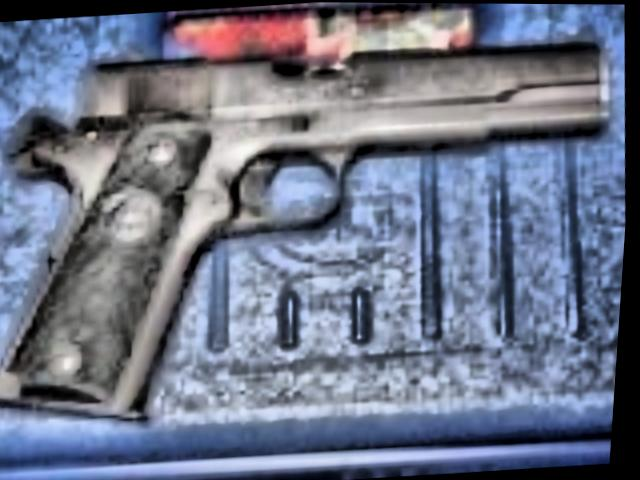pistol: (0, 24, 627, 446)
